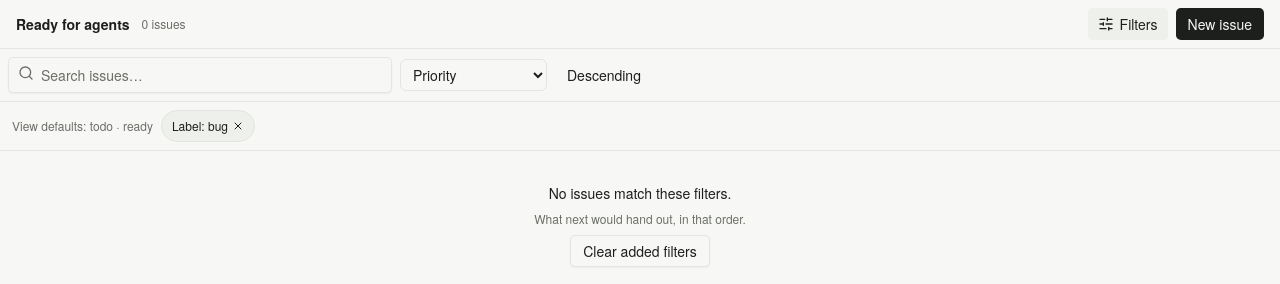
Test: keeps view defaults separate and clears added filters from an empty result
Expected: the text "No issues match these filters." is shown, [549, 183, 731, 203]
Expected: the text "View defaults: todo · ready" is shown, [12, 118, 153, 134]
Click the button "Clear added filters": (640, 251) [570, 235, 710, 267]
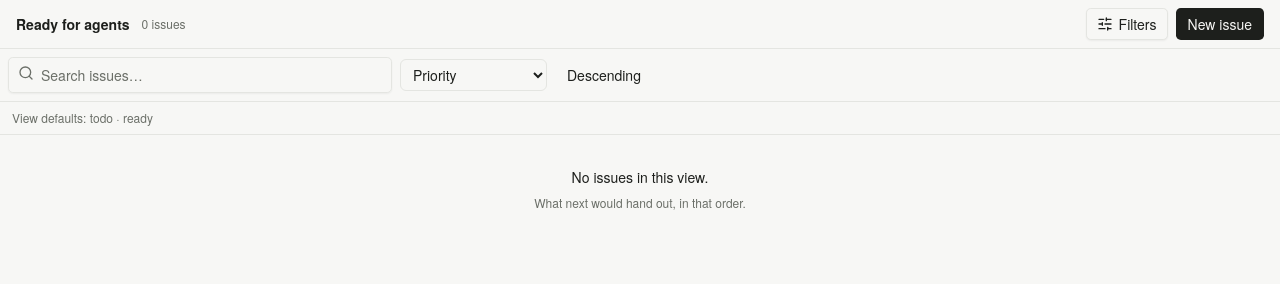
Expected: the text "No issues in this view." is shown, [572, 167, 708, 187]
